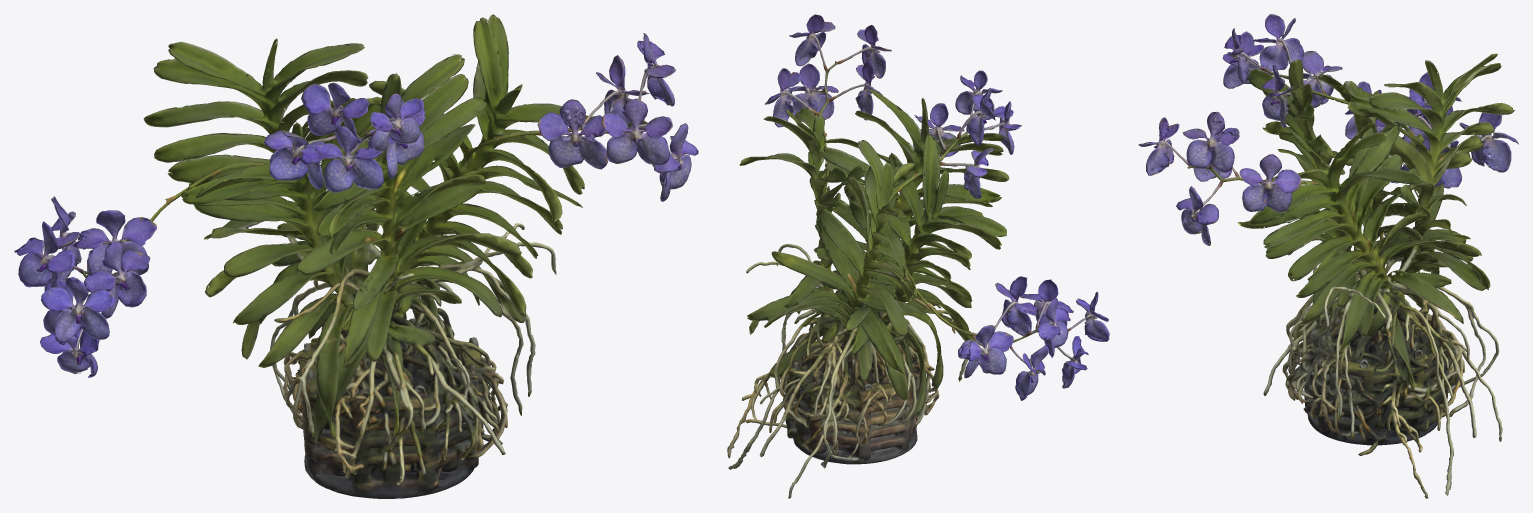
Rendered from Vanda2.glb.
The picture shows the model from 3 angles, left to right: view 1: azimuth 30°, elevation 25°; view 2: azimuth 150°, elevation 25°; view 3: azimuth 270°, elevation 25°; orthographic projection. The views are drawn at different scales.
Bounding box in the file's own units: 7.34 × 6.5 × 5.65.
Materials: 1 (1 with a texture image).
